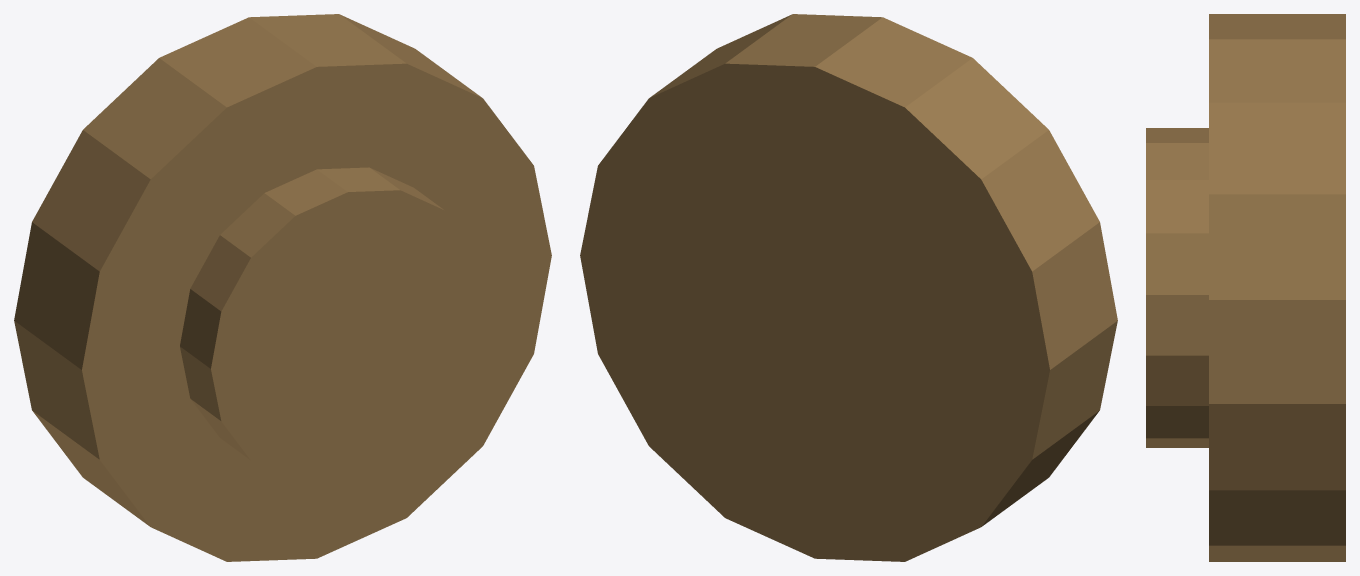
Rendered from SM_CommonRopeCoil.obj.
3 renders of one model, left to right at view 1: azimuth 30°, elevation 25°; view 2: azimuth 150°, elevation 25°; view 3: azimuth 270°, elevation 25°, orthographic.
Parts seen in each view (by area): view 1: SM_CommonRopeCoil; view 2: SM_CommonRopeCoil; view 3: SM_CommonRopeCoil.
Part boxes in pixels (x1,y1,x2,y2): SM_CommonRopeCoil: (14, 14, 551, 561); SM_CommonRopeCoil: (580, 14, 1117, 561); SM_CommonRopeCoil: (1146, 14, 1345, 561).
Bounding box in the file's own units: 96 × 96 × 35.
